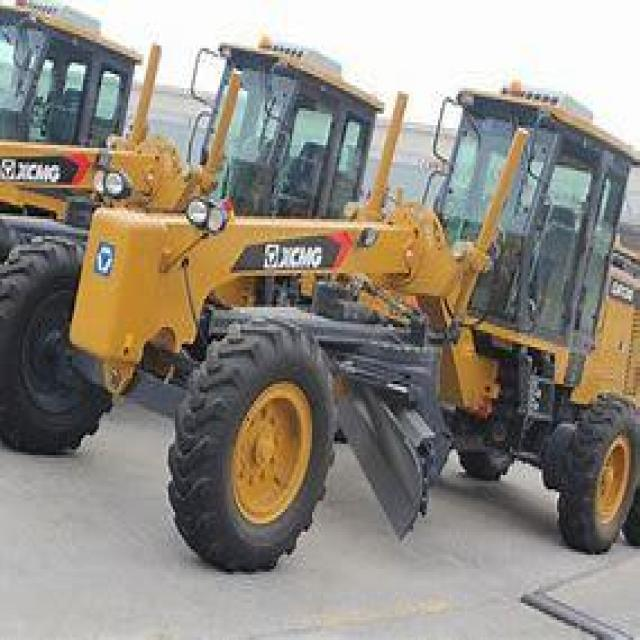Grader: (9, 46, 638, 566)
